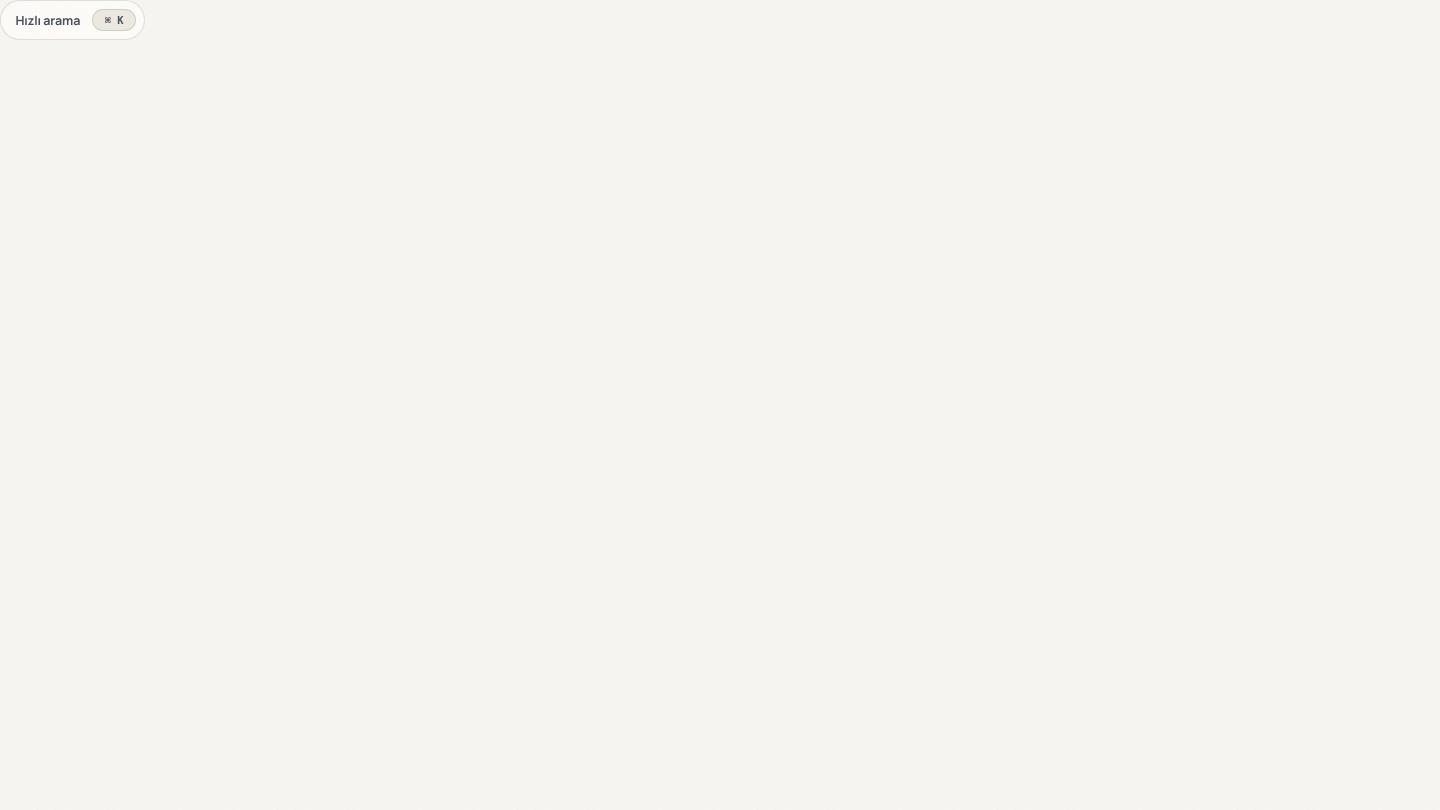
Test: CommandPalette › opens with Cmd/Ctrl+K, focuses the combobox, and normalizes Turkish search text
The image size is (1440, 810).
Press k
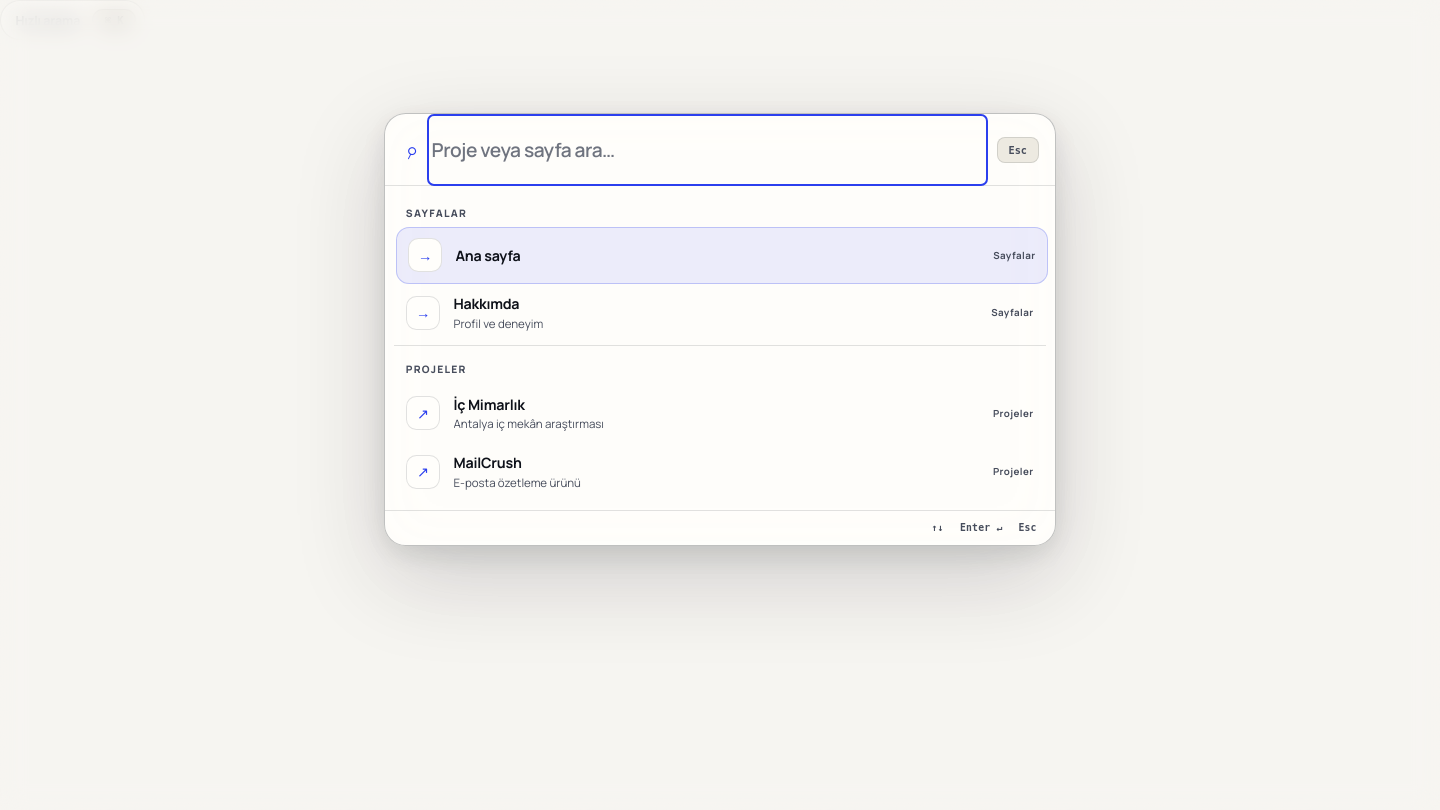
Check: the dialog named "Site içinde hızlı arama" is shown, box left=384, top=113, right=1056, bottom=546
Type "ic mimarlik" into the dropdown labelled "Proje veya sayfa ara" at (707, 150), box left=432, top=118, right=983, bottom=181
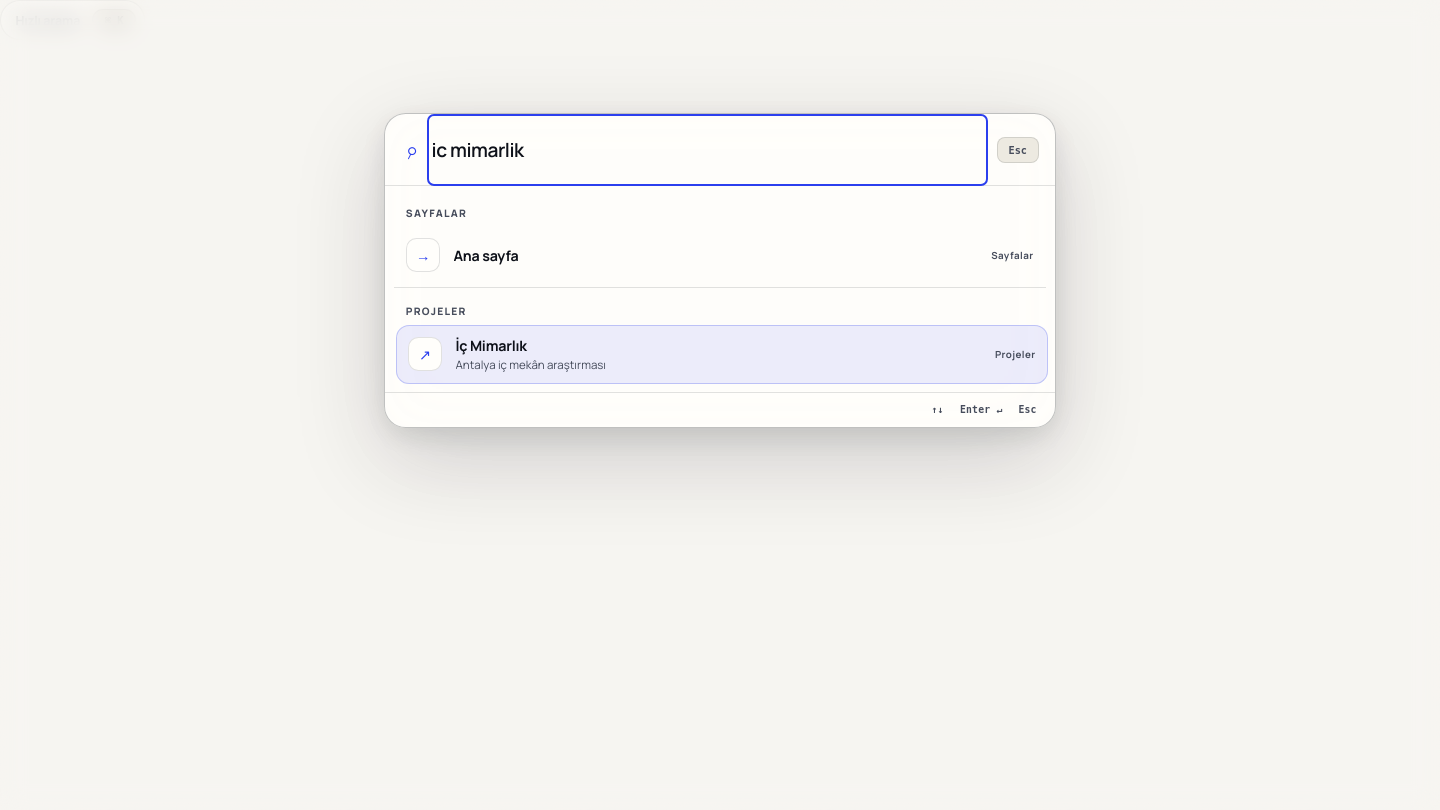
Check: the option "↗ İç Mimarlık Antalya iç mekân araştırması Projeler" is shown, box left=396, top=325, right=1048, bottom=384
Check: the option "MailCrush" is gone
